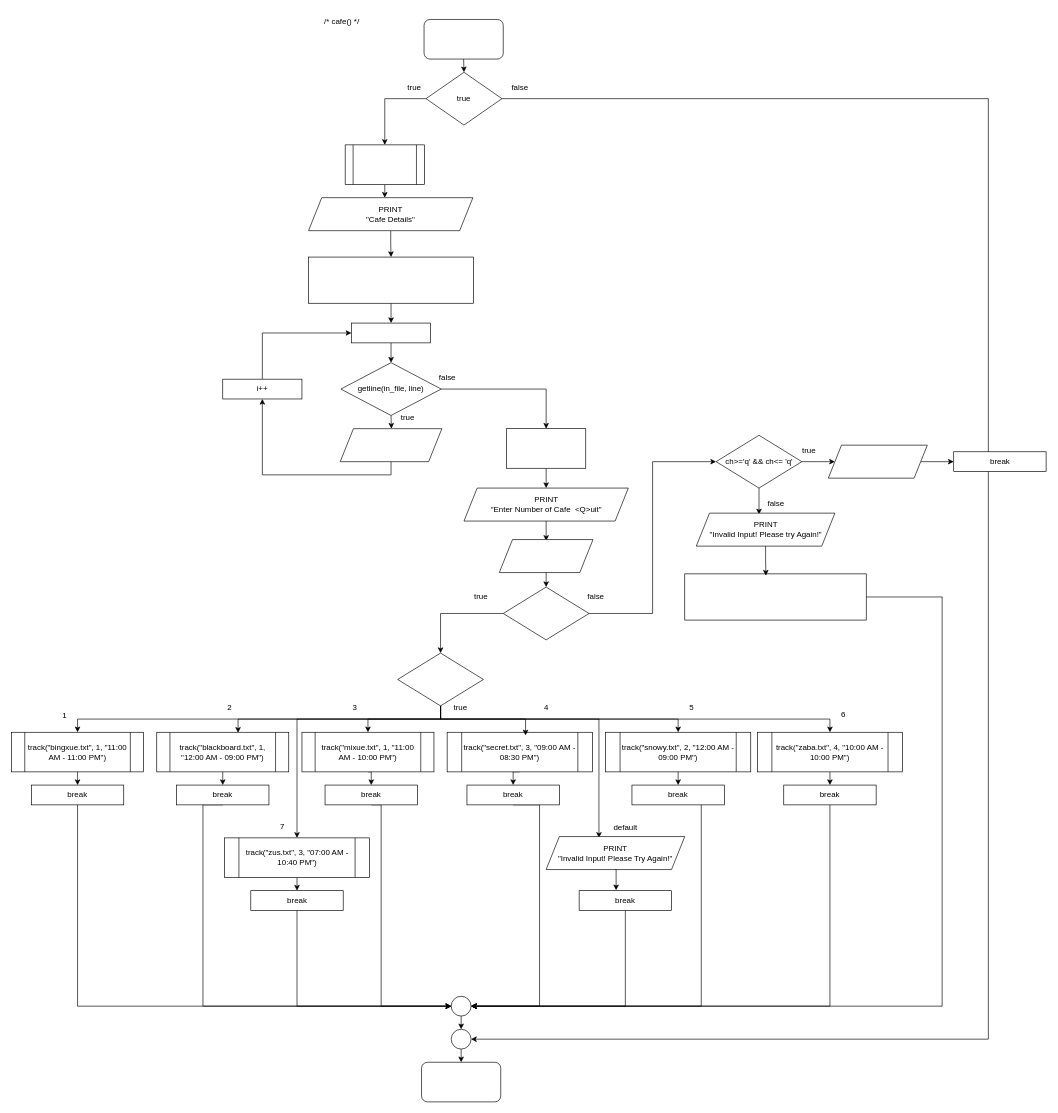
The diagram is 1058 pixels wide and 1113 high, and some of its shapes have lost their labels. The centre of each missing label's shape, as x and y in pixels:
cafe(): the point at 463,39
ch>='1' && ch<= '7': the point at 546,613
cin.ignore(numeric_limits<streamsize>::max(), '\n') cin.get(): the point at 775,596
clear_screen(): the point at 384,164
Close File in_file.close(): the point at 546,448
DISPLAY i and line: the point at 391,445
ifstream in_file("restaurant_data.txt"), ios::in) string line char ch: the point at 391,279
int i=1: the point at 391,332
PRINT "Successfully Quit": the point at 877,461
Read ch: the point at 546,556
RETURN: the point at 461,1082
switch(ch): the point at 440,679
